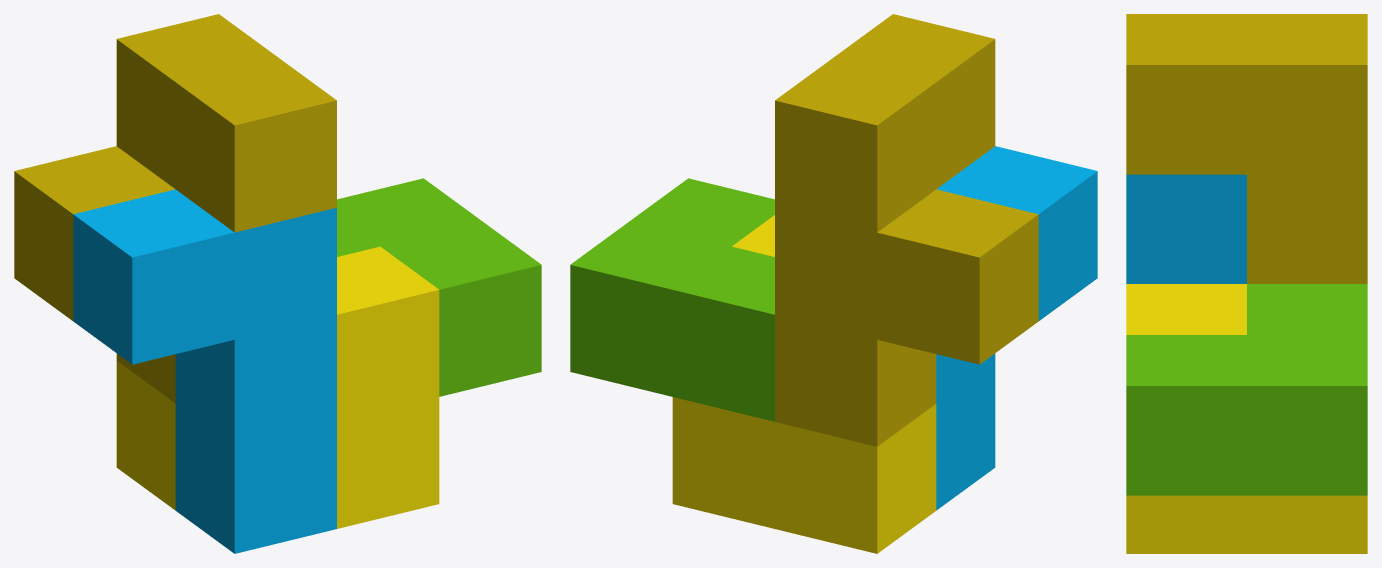
The picture shows the model from 3 angles, left to right: view 1: azimuth 30°, elevation 25°; view 2: azimuth 150°, elevation 25°; view 3: azimuth 270°, elevation 25°; orthographic projection. The views are drawn at different scales.
Visible parts, largest first — view 1: mergedBlocks(Clone); view 2: mergedBlocks(Clone); view 3: mergedBlocks(Clone).
Boxes of the visible parts, box(x1,y1,x2,y2) form: mergedBlocks(Clone): box(14, 14, 541, 553); mergedBlocks(Clone): box(570, 14, 1097, 553); mergedBlocks(Clone): box(1126, 14, 1367, 553).
Bounding box in the file's own units: 4 × 4 × 2.
Materials: 4 (4 with a texture image).
